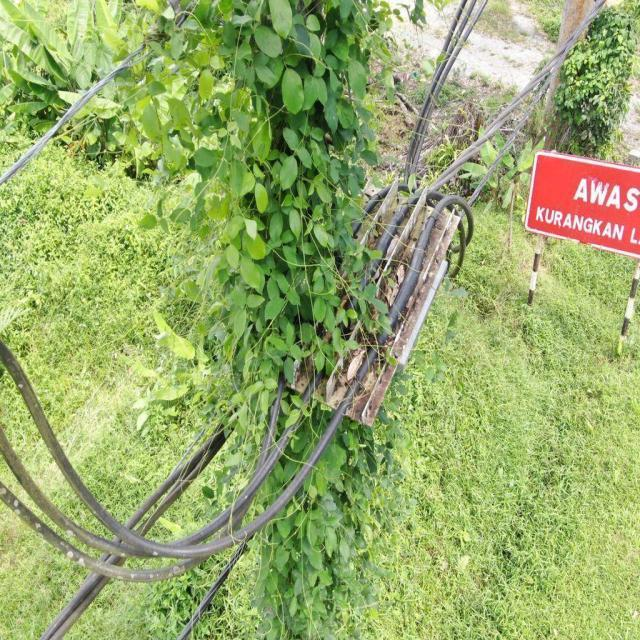critical vegetation: (206, 19, 372, 618)
